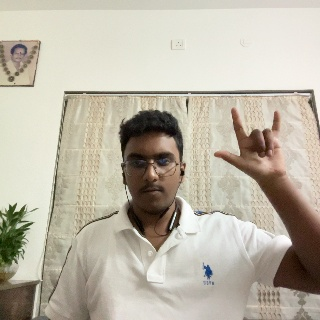Face: (124, 117, 186, 211)
I Love You: (215, 105, 291, 190)
